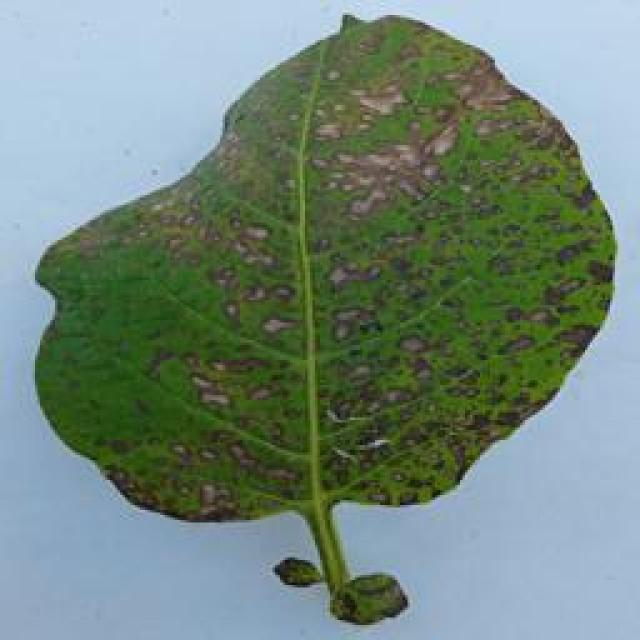Potato_Early_Blight: (31, 8, 640, 510)
